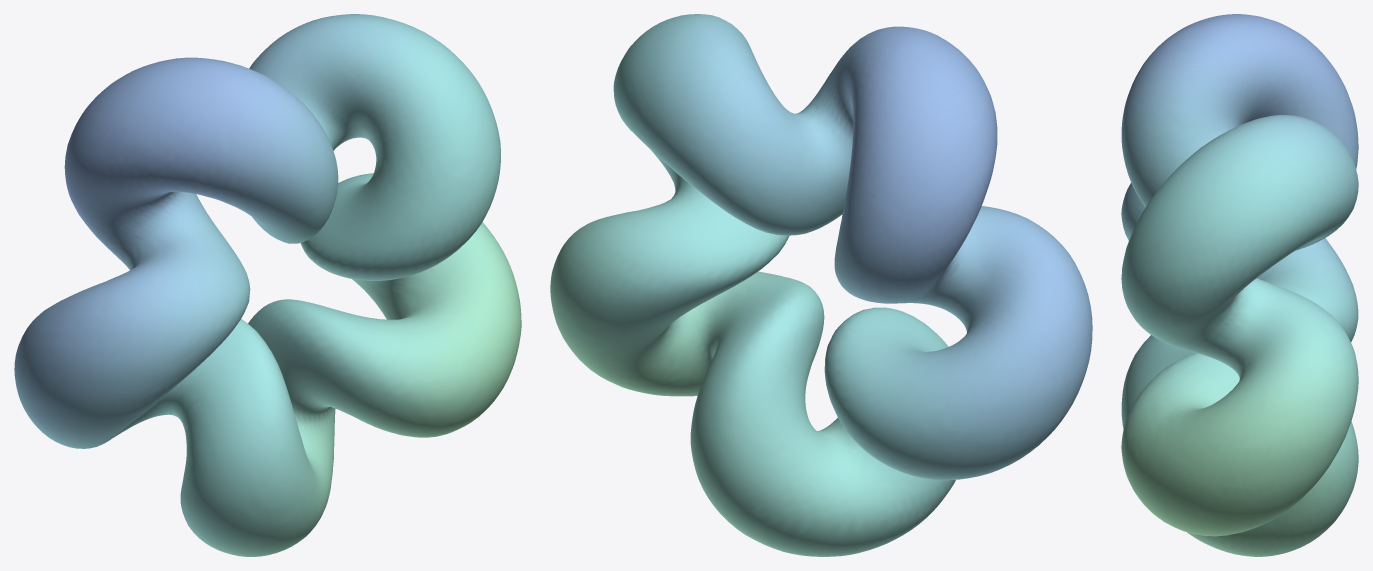
File: 04_twistbud_static.glb
The picture shows the model from 3 angles, left to right: view 1: azimuth 30°, elevation 25°; view 2: azimuth 150°, elevation 25°; view 3: azimuth 270°, elevation 25°; orthographic projection. The views are drawn at different scales.
Visible parts, largest first — view 1: pinch; view 2: pinch; view 3: pinch.
Boxes of the visible parts, bbox=[...] form: pinch: bbox=[14, 14, 521, 556]; pinch: bbox=[550, 14, 1092, 556]; pinch: bbox=[1121, 14, 1358, 556].
Bounding box in the file's own units: 0.1308 × 0.1291 × 0.0565.
Materials: 1 (1 with a texture image).
